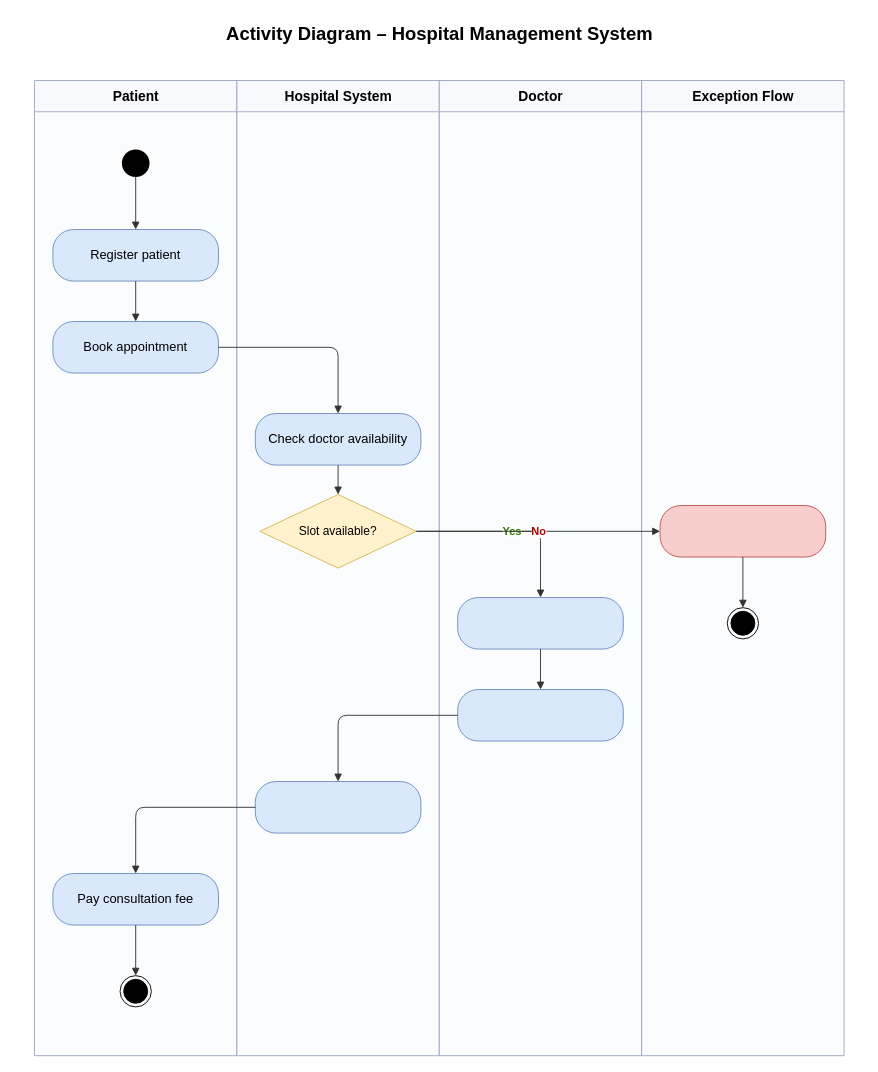
The diagram is 878 pixels wide and 1072 high, and some of its shapes have lost their labels. The centre of each missing label's shape, as x and y in pixels:
"Consult patient" goes at point (540, 623).
"Generate fee bill" goes at point (337, 807).
"Record case and prescription" goes at point (540, 715).
"Suggest another slot" goes at point (742, 531).
